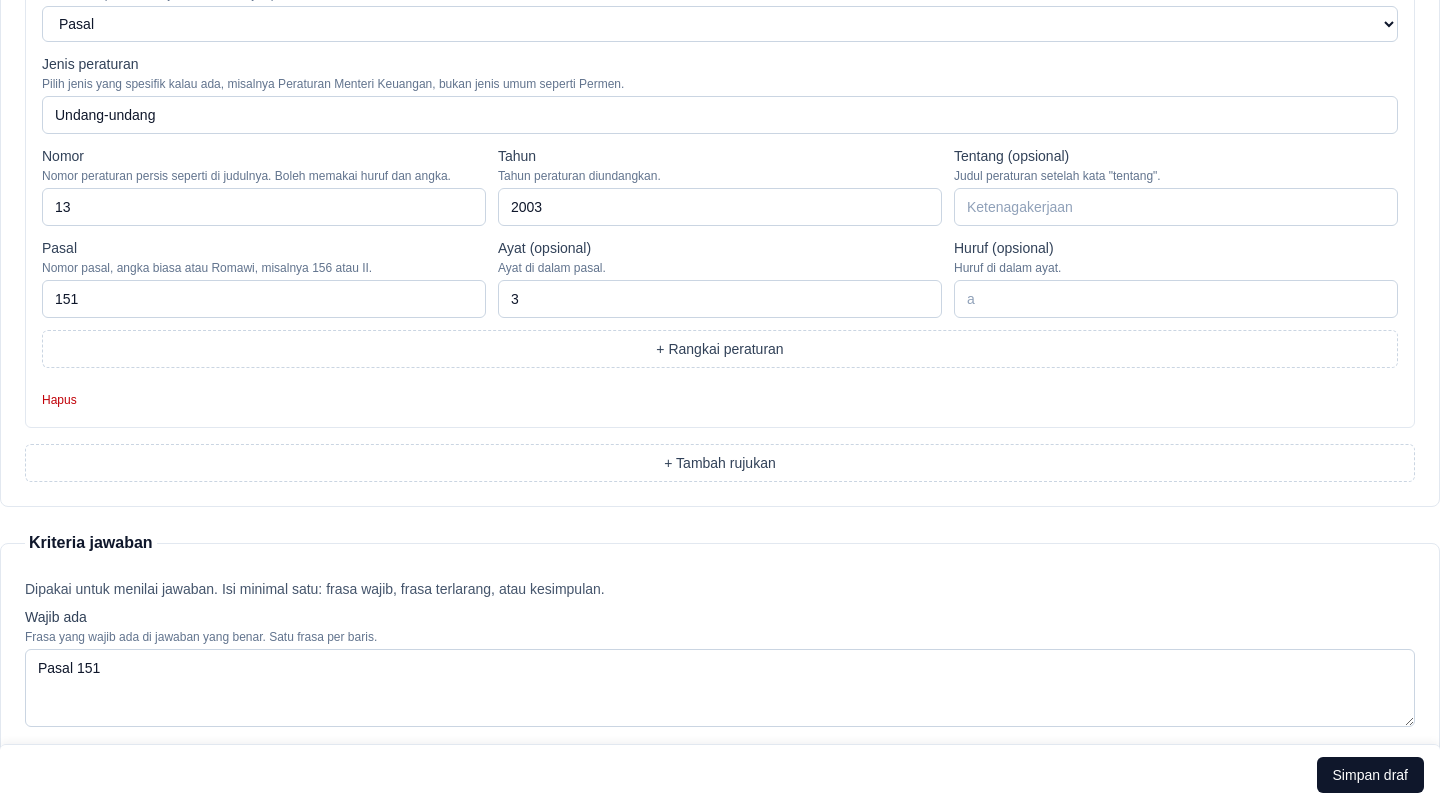
it: CaseEditorForm › lets the author remove the last legal reference row, then says one is needed
The image size is (1440, 805).
(page scrolled)
What coordinates should you click on to do the following:
click the button with aria-label "Hapus rujukan 1"
I would click on:
 (59, 400)
Its box is [42,392,77,408].
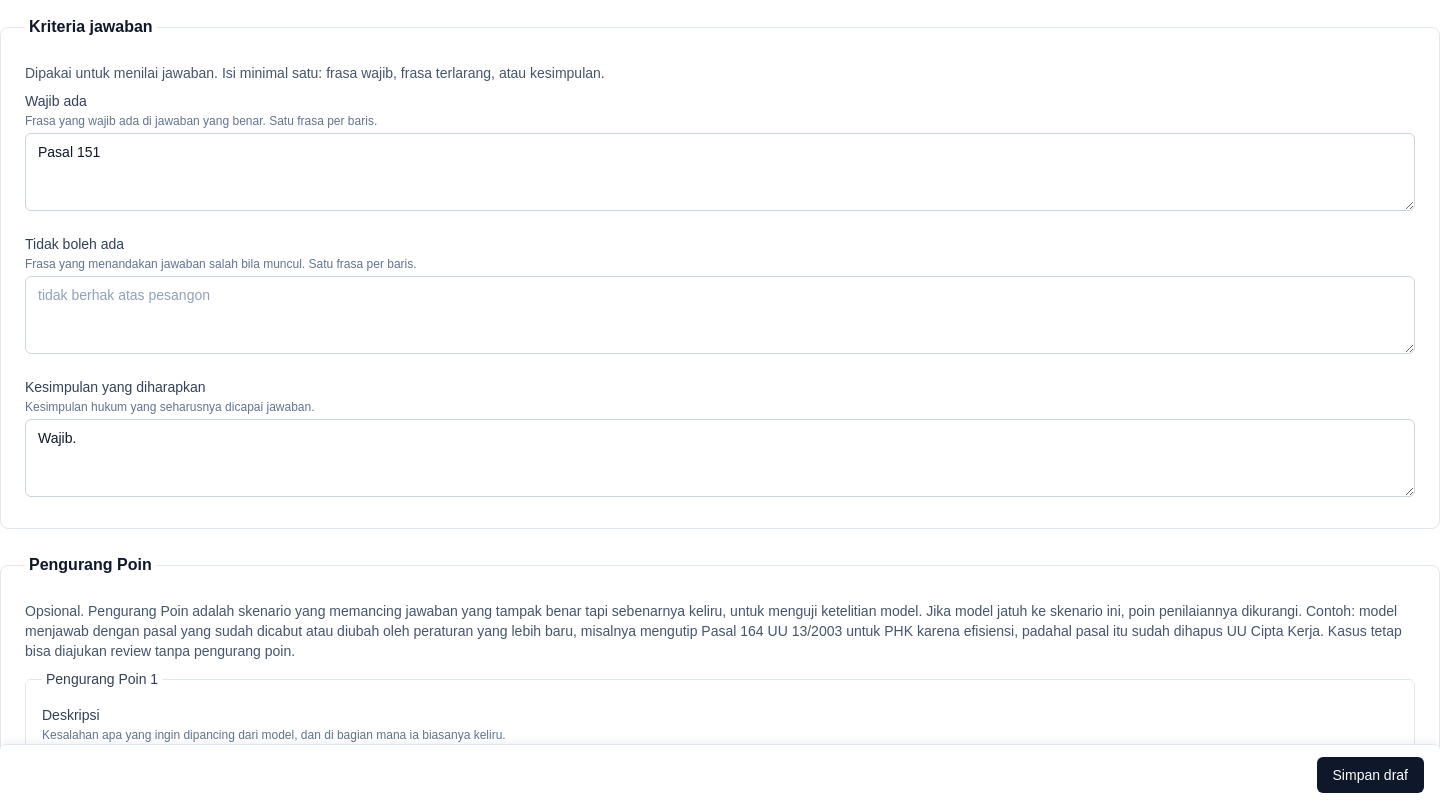
What coordinates should you click on to do the following:
click the button "Simpan draf"
I would click on:
 (1370, 775)
Its box is [1316,757,1424,793].
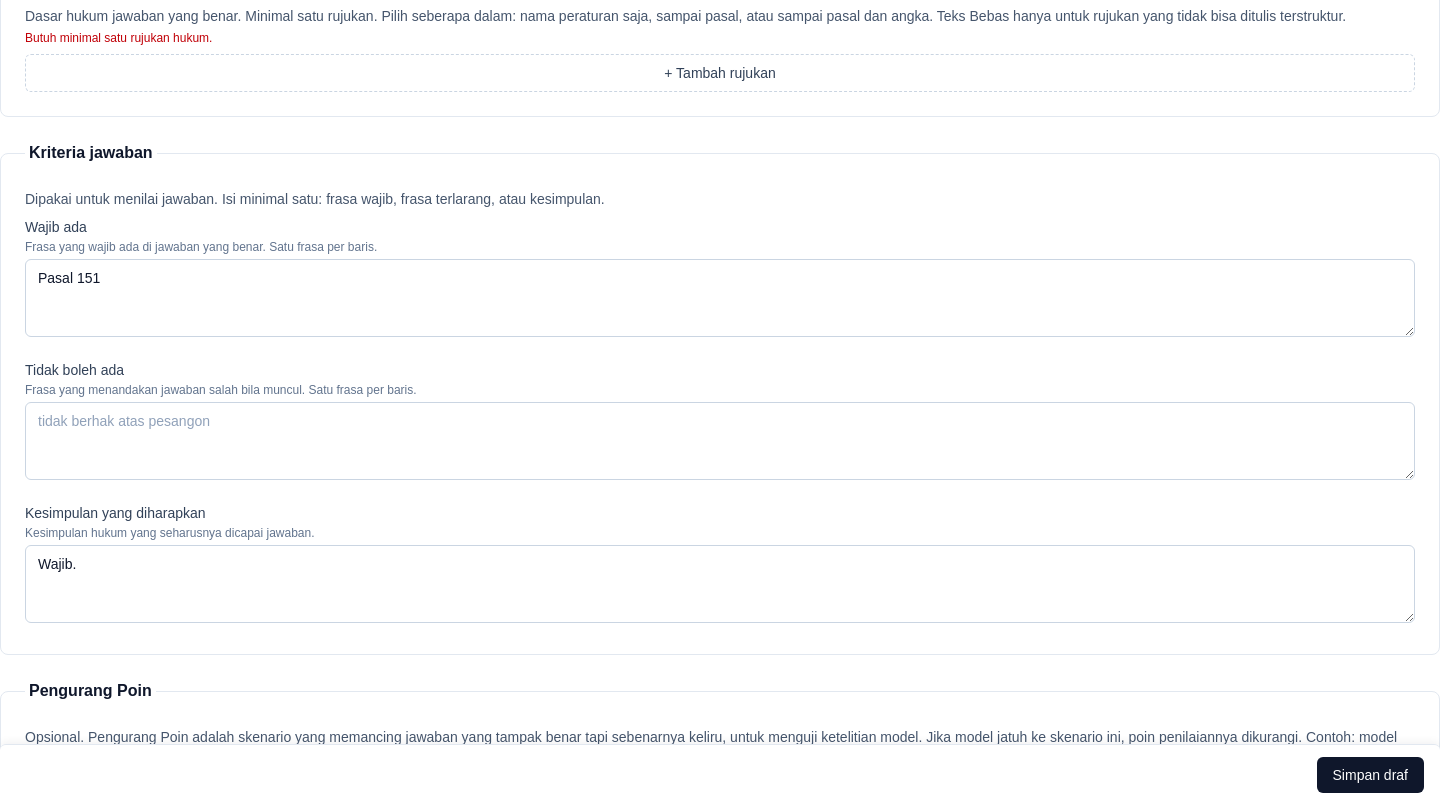
expect the text "Butuh minimal satu rujukan hukum." is shown: met, box [25,31,212,45]
